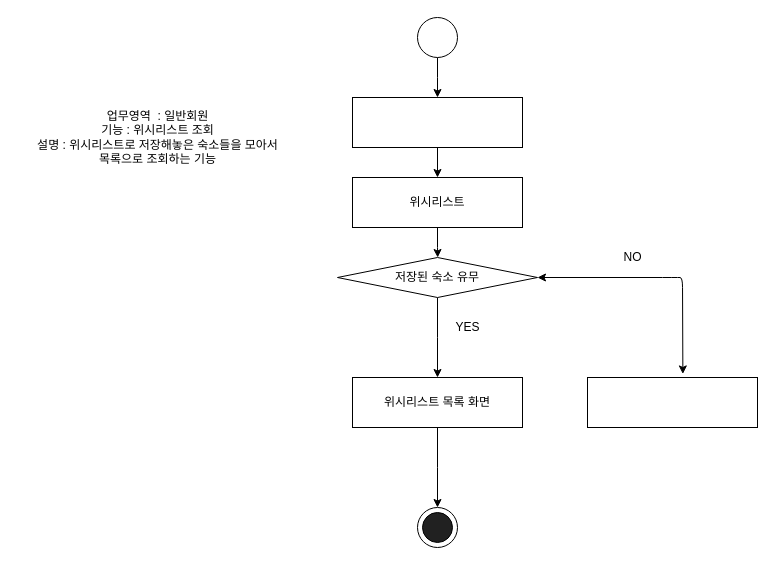
This 775x565 diagram has some shape labels left out. Here are the shapes that lost their labels. From the top down, the box of each, then its label:
(352, 96, 522, 148): 메인화면
(586, 376, 758, 428): 위시리스트 사용법 설명 화면
